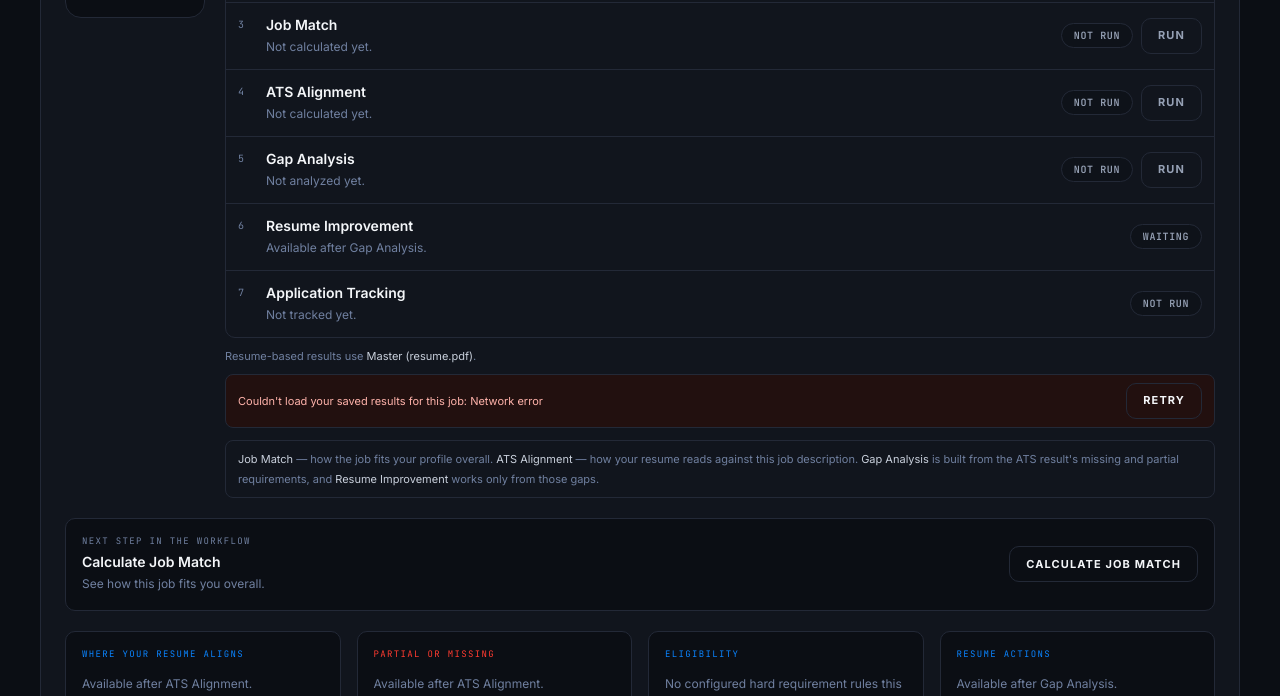
Scenario: Jobs page — AJI-023 decision workflow › offers a retry when saved results fail to load
(page scrolled)
Expected: the text "Couldn't load your saved results for this job: Network error" is shown, [238,390,543,410]
Click the button "Retry" at (1164, 400), box [1126,382,1202,418]
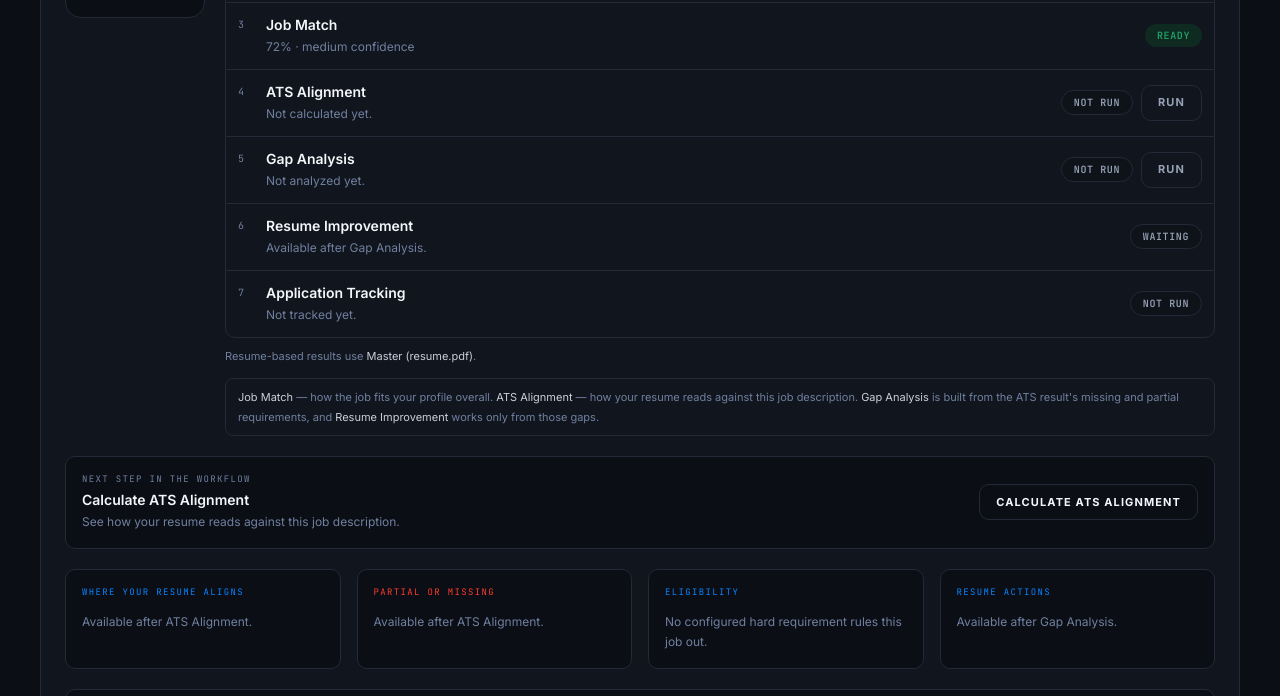
Now the text "72% · medium confidence" is shown, box [266,36,415,56]
